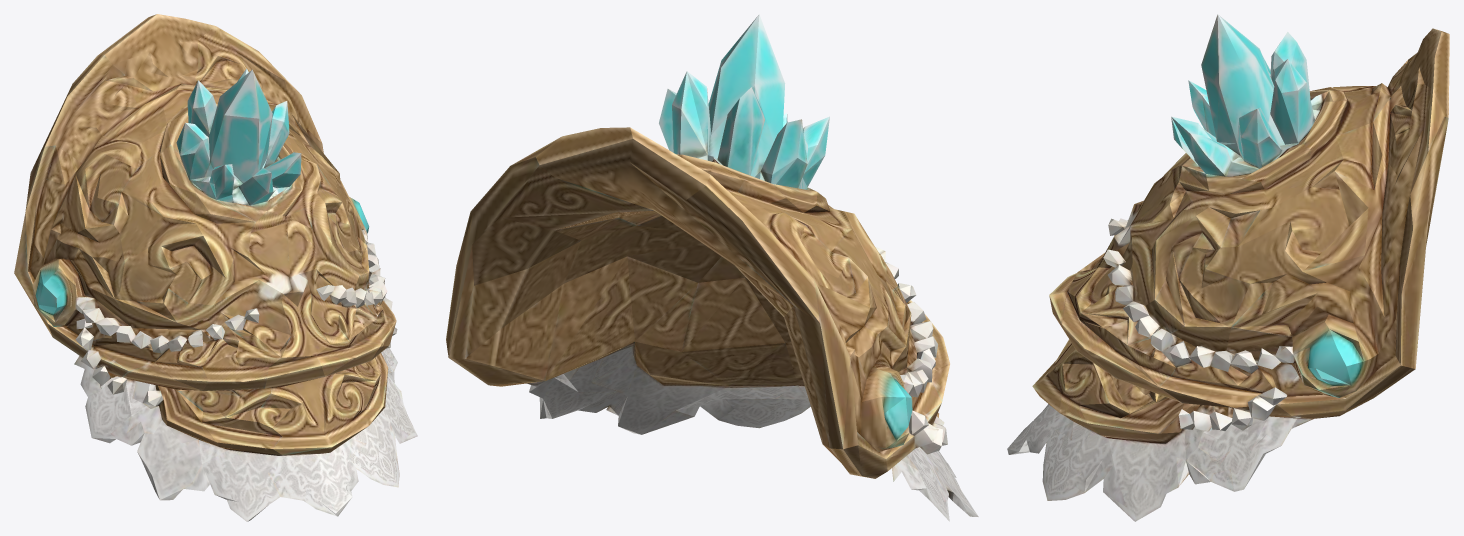
Rendered from broccato-spalle.glb.
3 views of the same model, side by side, from view 1: azimuth 30°, elevation 25°; view 2: azimuth 150°, elevation 25°; view 3: azimuth 270°, elevation 25° (orthographic). The views are drawn at different scales.
Parts seen in each view (by area): view 1: Mesh_0; view 2: Mesh_0; view 3: Mesh_0.
Boxes of the visible parts, <box> form: Mesh_0: <box>14,14,417,521</box>; Mesh_0: <box>446,14,978,521</box>; Mesh_0: <box>1007,14,1449,521</box>.
Size of the model in its own units: 1.69 by 1.9 by 1.71.
1 material, 1 textured.
